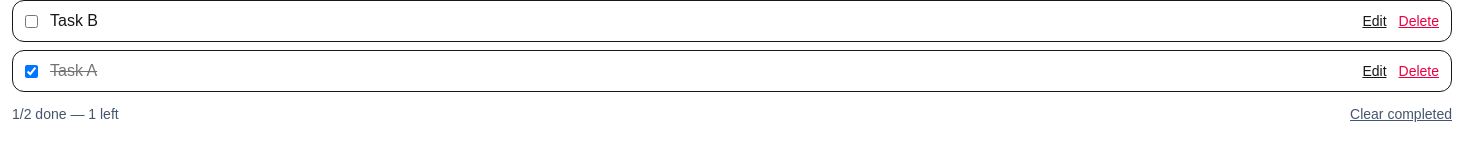
Test case: TodoList › clears completed todos
Expected: the text "1/2 done — 1 left" is shown, left=12, top=104, right=119, bottom=124
Click the button "Clear completed".
click(1401, 114)  # box left=1350, top=104, right=1452, bottom=124
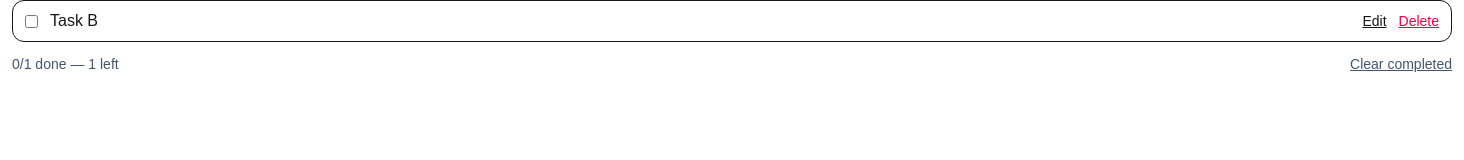
Expected: the text "0/1 done — 1 left" is shown, left=12, top=54, right=119, bottom=74
Expected: the text "Task A" is gone
